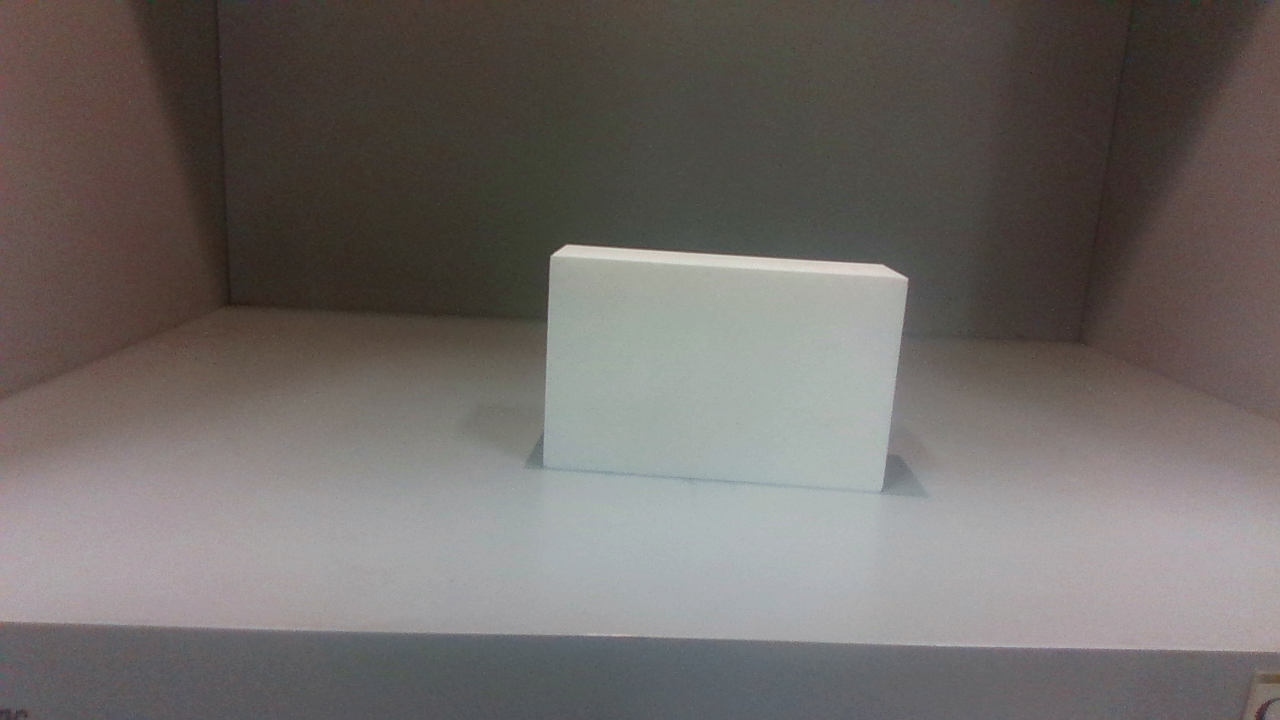Retangulo: (545, 244, 908, 488)
